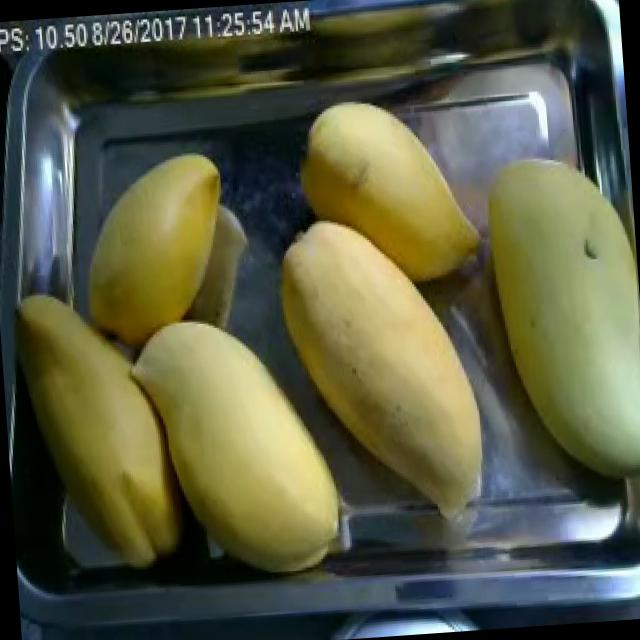fruit: (252, 192, 501, 542), (110, 282, 362, 586), (2, 269, 214, 592), (470, 144, 640, 499), (282, 85, 494, 302), (65, 138, 264, 356)
